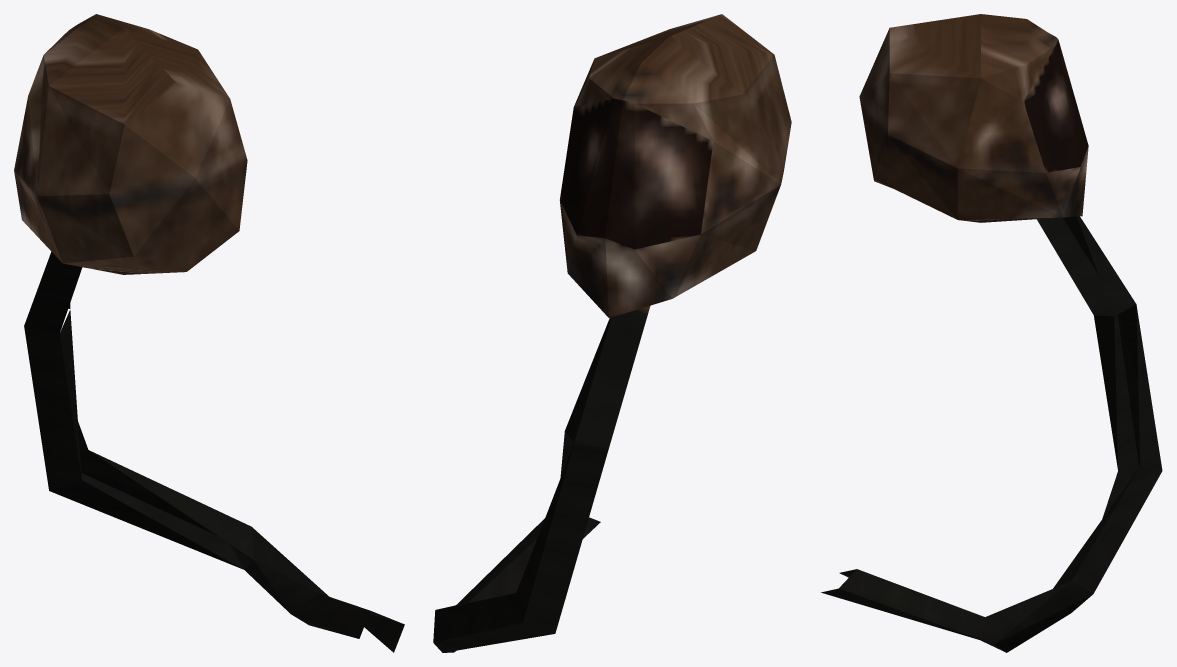
The model's file is envirohelmet.obj.
3 views of the same model, side by side, from view 1: azimuth 30°, elevation 25°; view 2: azimuth 150°, elevation 25°; view 3: azimuth 270°, elevation 25° (orthographic). The views are drawn at different scales.
Parts seen in each view (by area): view 1: ATR_environmental; view 2: ATR_environmental; view 3: ATR_environmental.
Part boxes in pixels (box(x1,y1,x2,y2)): ATR_environmental: box(14, 14, 404, 652); ATR_environmental: box(433, 14, 791, 652); ATR_environmental: box(821, 14, 1162, 652).
Bounding box in the file's own units: 21.27 × 41.44 × 23.1.
